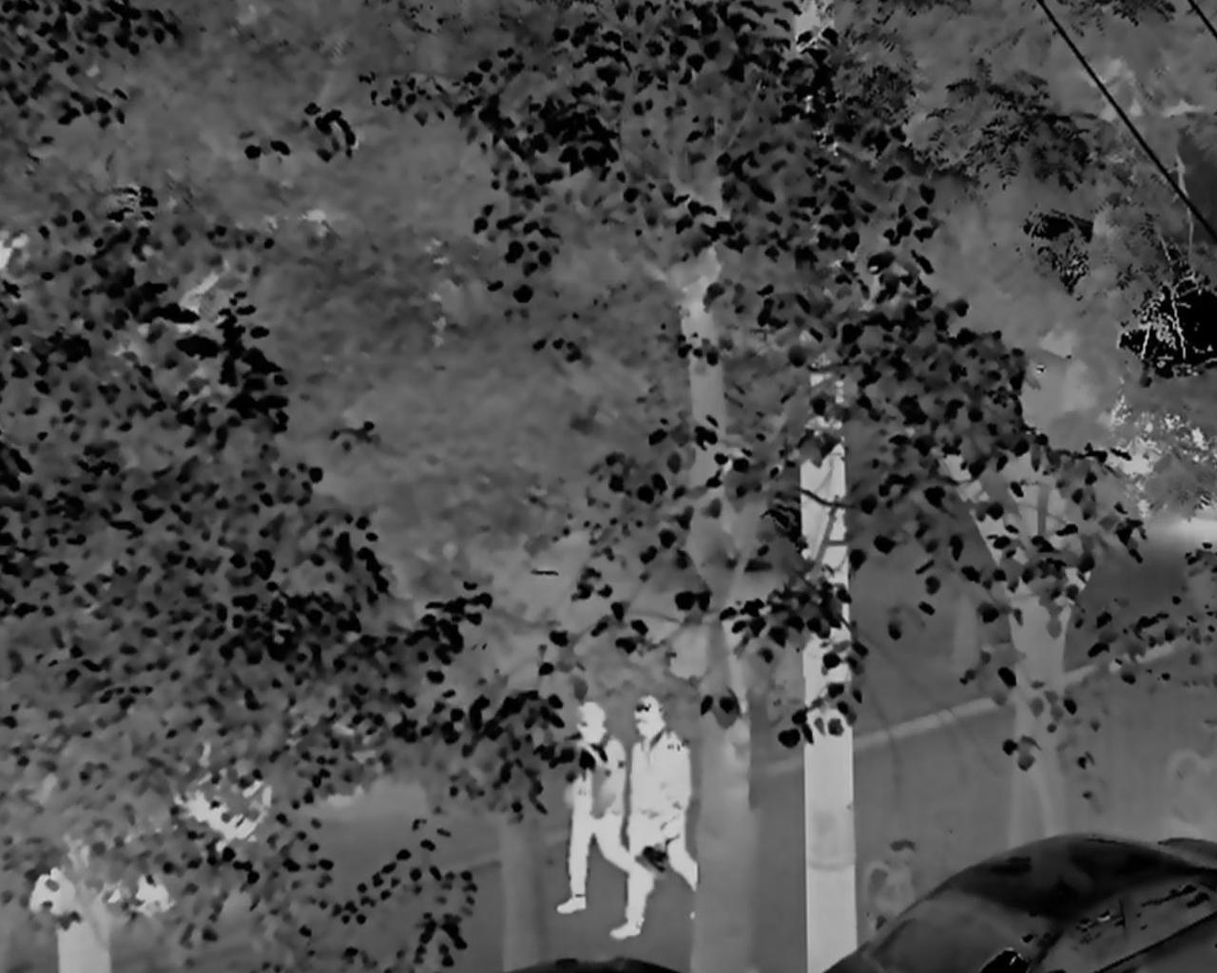person: (616, 690, 697, 942), (559, 696, 631, 911)
